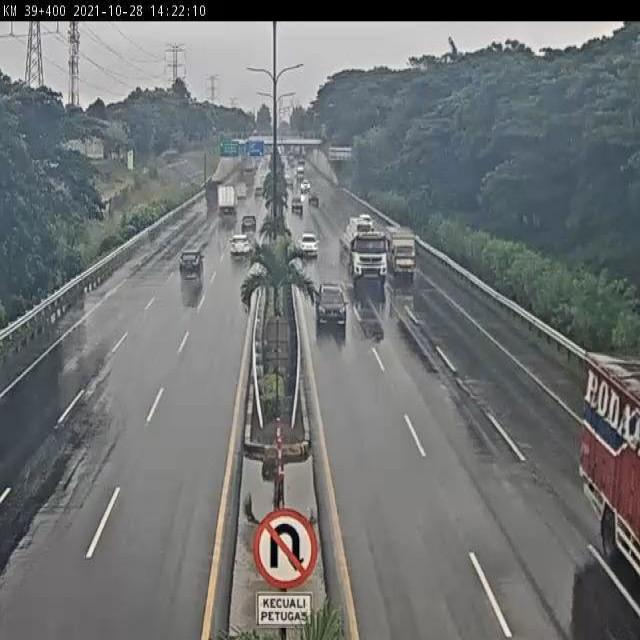car: (315, 280, 349, 335), (178, 245, 207, 284), (228, 233, 254, 263), (297, 232, 320, 259), (239, 212, 259, 235)
truck-s-: (385, 223, 418, 280)
truck-xl-: (334, 211, 389, 285)
